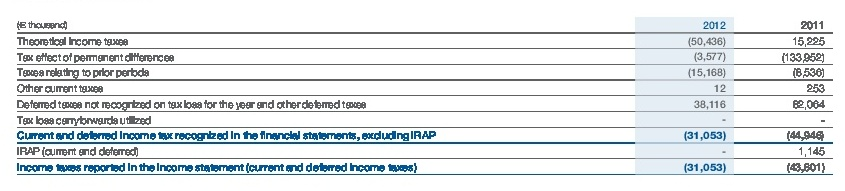table: (0, 0, 845, 191)
